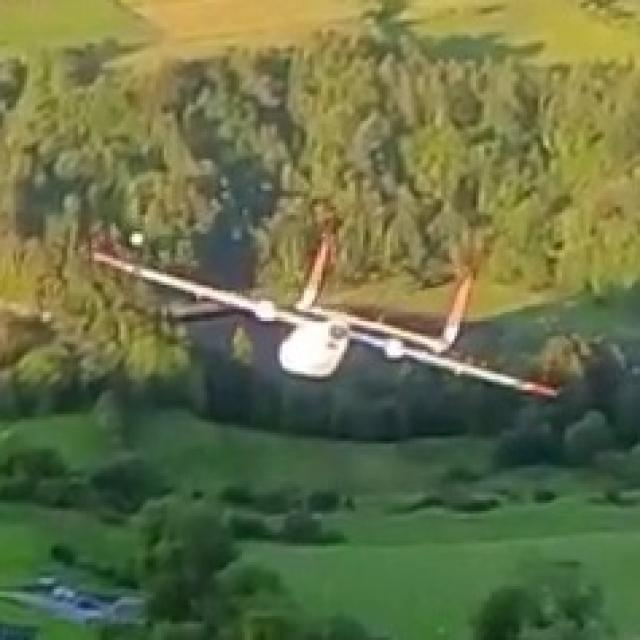iha: (83, 235, 562, 410)
